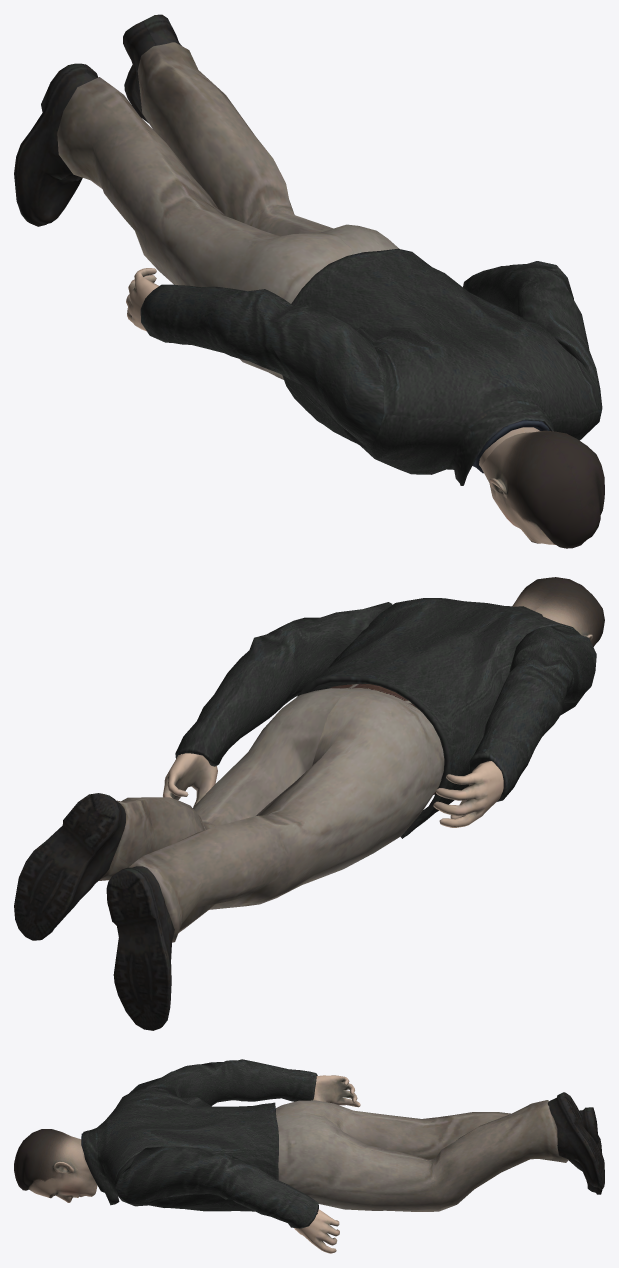
File: dest_nt_nuked_male_01_d0_LOD0.obj
The picture shows the model from 3 angles, top to bottom: view 1: azimuth 30°, elevation 25°; view 2: azimuth 150°, elevation 25°; view 3: azimuth 270°, elevation 25°; orthographic projection. The views are drawn at different scales.
Visible parts, largest first — view 1: mtl_nt_2020_manne_male01_jacket1, mtl_nt_2020_manne_male01_pants1, mtl_nt_2020_manne_male01_head1; view 2: mtl_nt_2020_manne_male01_pants1, mtl_nt_2020_manne_male01_jacket1, mtl_nt_2020_manne_male01_head1; view 3: mtl_nt_2020_manne_male01_jacket1, mtl_nt_2020_manne_male01_pants1, mtl_nt_2020_manne_male01_head1.
Boxes of the visible parts, bbox=[...] form: mtl_nt_2020_manne_male01_jacket1: bbox=[140, 248, 602, 485]; mtl_nt_2020_manne_male01_pants1: bbox=[14, 14, 399, 379]; mtl_nt_2020_manne_male01_head1: bbox=[126, 268, 604, 548]; mtl_nt_2020_manne_male01_pants1: bbox=[14, 683, 444, 1030]; mtl_nt_2020_manne_male01_jacket1: bbox=[175, 598, 596, 838]; mtl_nt_2020_manne_male01_head1: bbox=[163, 577, 604, 827]; mtl_nt_2020_manne_male01_jacket1: bbox=[81, 1059, 318, 1228]; mtl_nt_2020_manne_male01_pants1: bbox=[276, 1092, 604, 1211]; mtl_nt_2020_manne_male01_head1: bbox=[14, 1075, 360, 1253].
Bounding box in the file's own units: 76.19 × 42.98 × 184.
